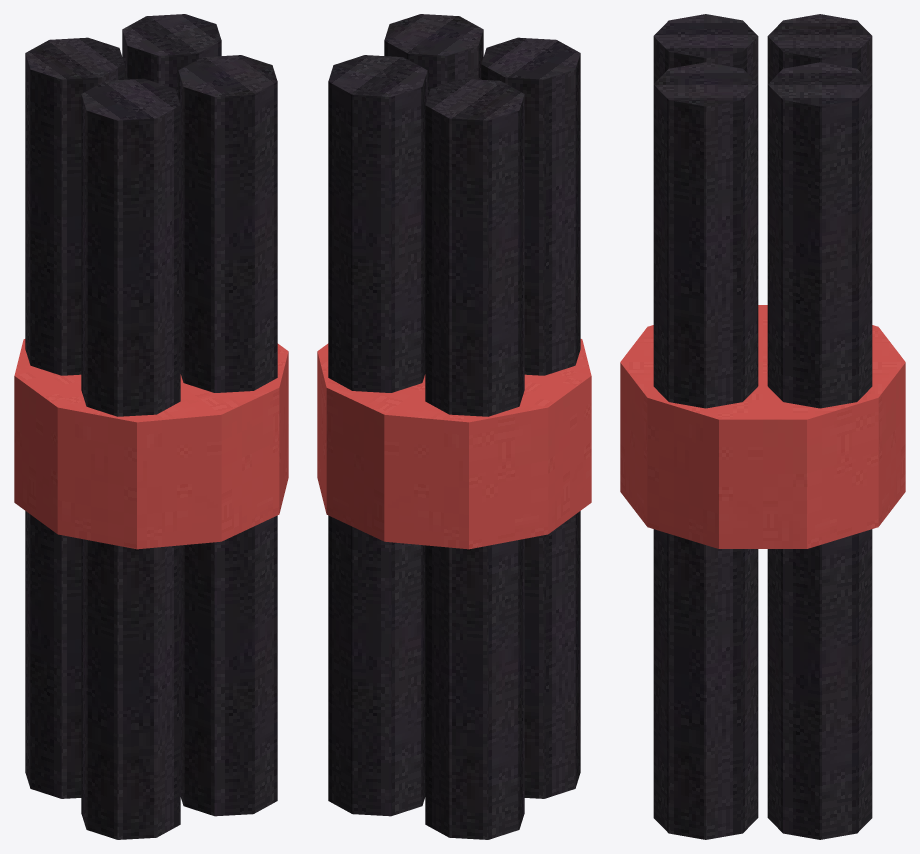
The picture shows the model from 3 angles, left to right: view 1: azimuth 30°, elevation 25°; view 2: azimuth 150°, elevation 25°; view 3: azimuth 270°, elevation 25°; orthographic projection.
Parts seen in each view (by area): view 1: licorice; view 2: licorice; view 3: licorice.
Part boxes in pixels (x1,y1,x2,y2): licorice: (14, 14, 288, 839); licorice: (317, 14, 591, 839); licorice: (620, 14, 905, 839).
Size of the model in its own units: 0.0571 by 0.17 by 0.06.
Materials: 2 (2 with a texture image).
